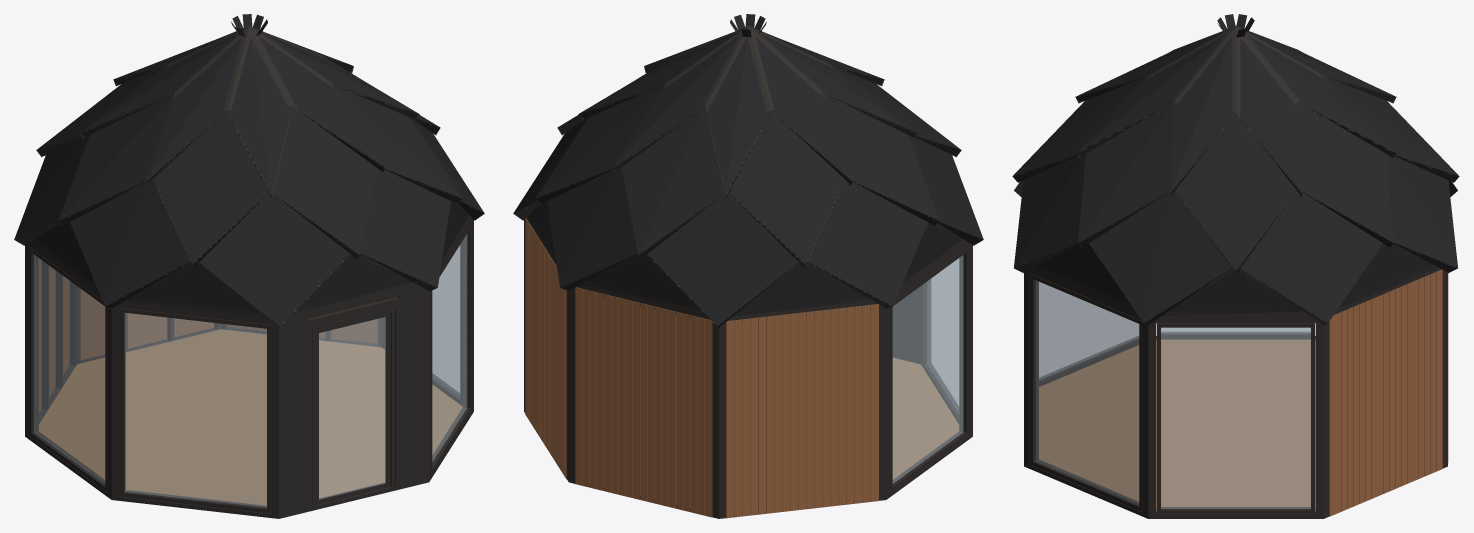
File: dormi_patagonico.glb
3 views of the same model, side by side, from view 1: azimuth 30°, elevation 25°; view 2: azimuth 150°, elevation 25°; view 3: azimuth 270°, elevation 25° (orthographic).
Visible parts, largest first — view 1: cubierta_chapa_negra, vidrios_vidrio, cerramiento_marco_negro, base_piso, puerta_hoja_1, cerramiento_revestimiento_madera, estructura_marco_negro; view 2: cubierta_chapa_negra, cerramiento_revestimiento_madera, cerramiento_marco_negro, vidrios_vidrio, base_piso, estructura_marco_negro; view 3: cubierta_chapa_negra, vidrios_vidrio, base_piso, cerramiento_revestimiento_madera, cerramiento_marco_negro, estructura_marco_negro.
Part boxes in pixels (x1=…): cubierta_chapa_negra: x1=14, y1=14, x2=484, y2=327; vidrios_vidrio: x1=34, y1=234, x2=467, y2=507; cerramiento_marco_negro: x1=25, y1=216, x2=473, y2=518; base_piso: x1=38, y1=329, x2=462, y2=505; puerta_hoja_1: x1=316, y1=313, x2=390, y2=504; cerramiento_revestimiento_madera: x1=38, y1=258, x2=377, y2=413; estructura_marco_negro: x1=32, y1=26, x2=470, y2=316; cubierta_chapa_negra: x1=513, y1=14, x2=983, y2=327; cerramiento_revestimiento_madera: x1=525, y1=218, x2=878, y2=518; cerramiento_marco_negro: x1=524, y1=216, x2=972, y2=518; vidrios_vidrio: x1=892, y1=255, x2=963, y2=483; base_piso: x1=892, y1=357, x2=959, y2=479; estructura_marco_negro: x1=528, y1=26, x2=965, y2=315; cubierta_chapa_negra: x1=1012, y1=14, x2=1459, y2=325; vidrios_vidrio: x1=1036, y1=280, x2=1310, y2=508; base_piso: x1=1039, y1=339, x2=1315, y2=511; cerramiento_revestimiento_madera: x1=1329, y1=269, x2=1448, y2=516; cerramiento_marco_negro: x1=1024, y1=267, x2=1447, y2=518; estructura_marco_negro: x1=1034, y1=26, x2=1436, y2=315.
Bounding box in the file's own units: 4.57 × 4.6 × 4.57.
